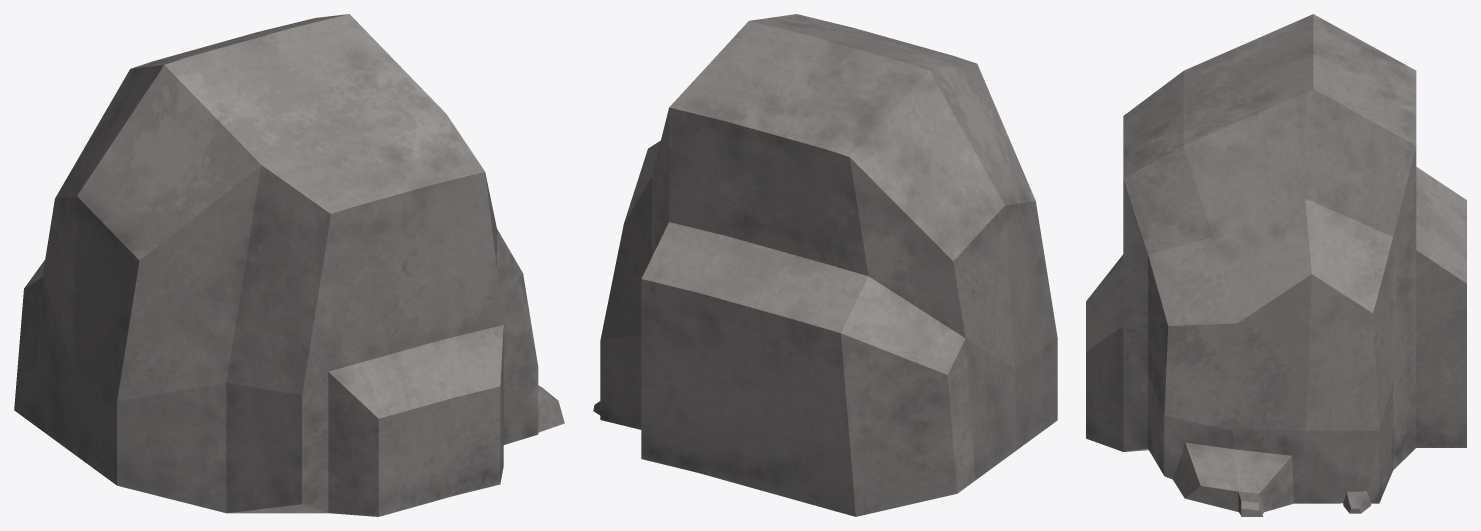
Rendered from petite pierre 3.fbx.
The picture shows the model from 3 angles, left to right: view 1: azimuth 30°, elevation 25°; view 2: azimuth 150°, elevation 25°; view 3: azimuth 270°, elevation 25°; orthographic projection. The views are drawn at different scales.
Parts seen in each view (by area): view 1: Cube.006; view 2: Cube.006; view 3: Cube.006.
Part boxes in pixels (x1=…): Cube.006: x1=14, y1=14, x2=564, y2=516; Cube.006: x1=593, y1=14, x2=1057, y2=516; Cube.006: x1=1086, y1=14, x2=1466, y2=516.
Size of the model in its own units: 59.4 by 53.82 by 50.61.
